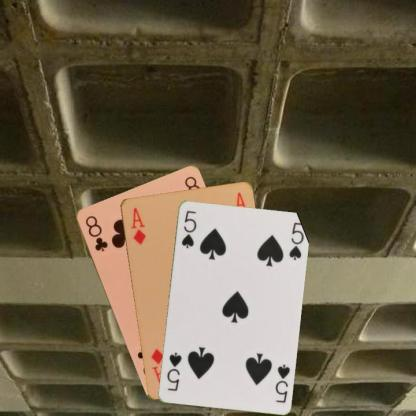5s: (178, 208, 198, 250), (272, 361, 291, 404)
8c: (82, 213, 109, 253)
Ad: (128, 204, 146, 245)
